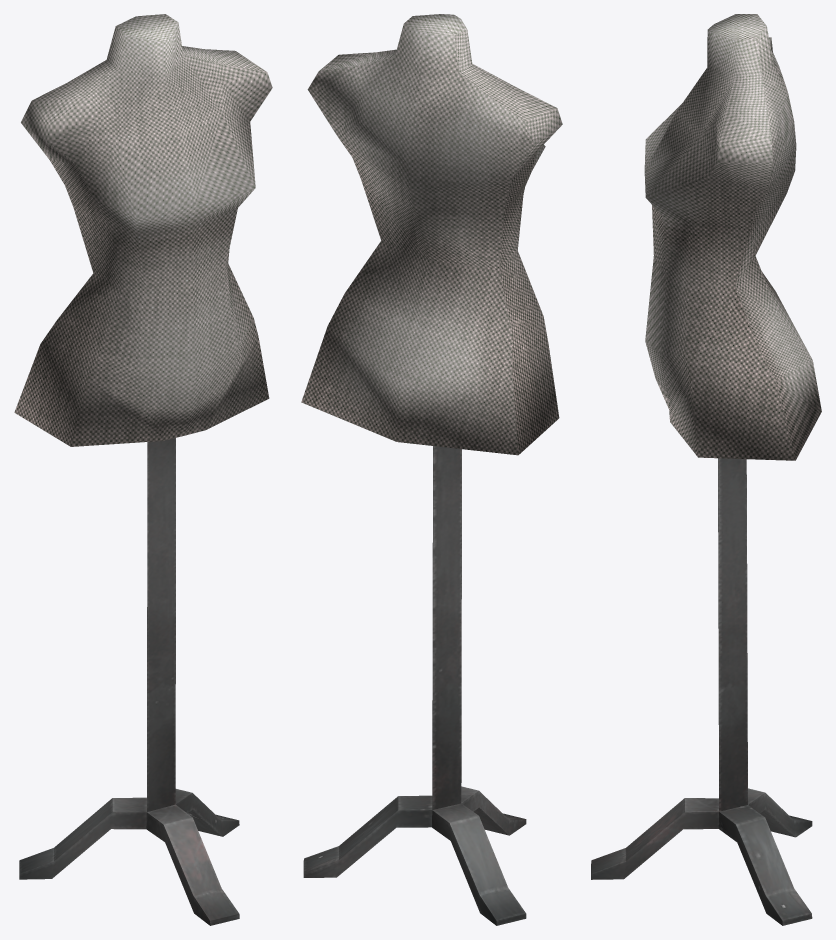
Rendered from Mannequin.fbx.
The picture shows the model from 3 angles, left to right: view 1: azimuth 30°, elevation 25°; view 2: azimuth 150°, elevation 25°; view 3: azimuth 270°, elevation 25°; orthographic projection.
Parts seen in each view (by area): view 1: Manniquin; view 2: Manniquin; view 3: Manniquin.
Part boxes in pixels (x1,y1,x2,y2): Manniquin: (14,14,272,925); Manniquin: (301,14,562,925); Manniquin: (591,14,821,925).
Size of the model in its own units: 41.92 by 150 by 37.18.
